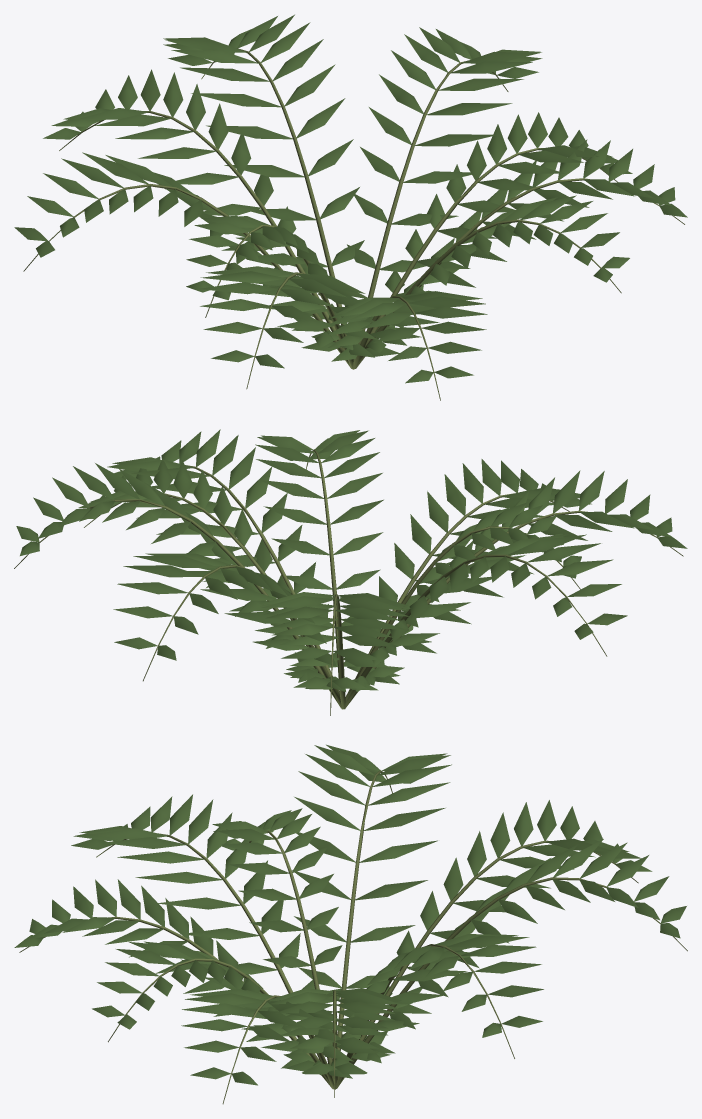
The model's file is rainforest_fern.glb.
The picture shows the model from 3 angles, top to bottom: view 1: azimuth 30°, elevation 25°; view 2: azimuth 150°, elevation 25°; view 3: azimuth 270°, elevation 25°; orthographic projection. The views are drawn at different scales.
Parts seen in each view (by area): view 1: Foliage, FernStems; view 2: Foliage, FernStems; view 3: Foliage, FernStems.
Boxes of the visible parts, box(x1,y1,x2,y2) form: Foliage: box(14, 14, 687, 383); FernStems: box(23, 48, 684, 400); Foliage: box(16, 429, 687, 691); FernStems: box(14, 449, 683, 715); Foliage: box(14, 744, 686, 1085); FernStems: box(19, 770, 687, 1104).
Size of the model in its own units: 1.81 by 0.6875 by 1.83.
